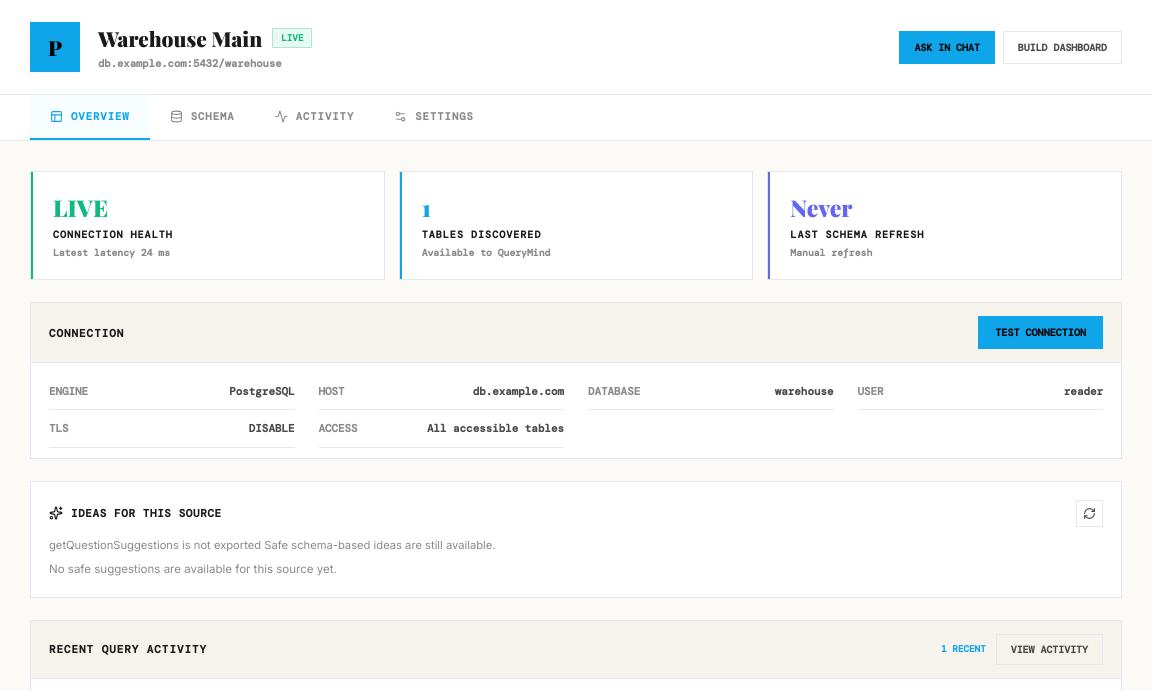
Test: connection detail states › loads scope inventory lazily and keeps activity query-only
What coordinates should you click on to do the following:
click the tab "SETTINGS"
I would click on:
 (434, 118)
Its box is [374,95,494,140].
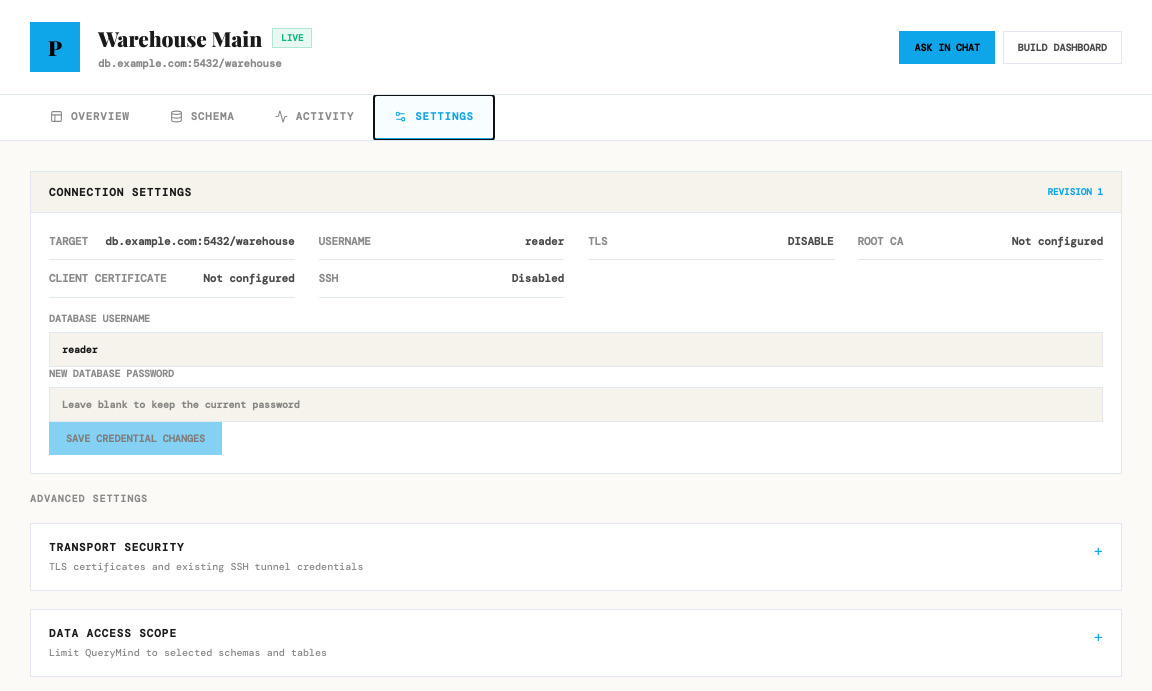
What coordinates should you click on to do the following:
click the button "DATA ACCESS SCOPE"
I would click on:
 (113, 633)
Its box is [31,610,1121,676].
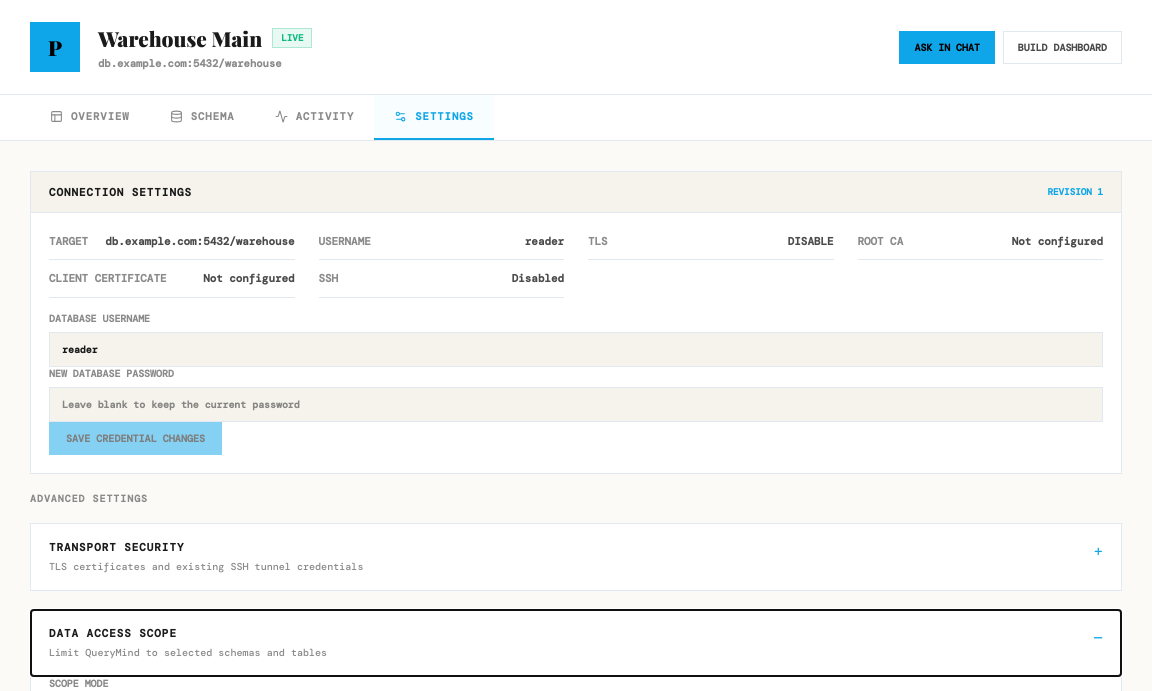
What coordinates should you click on to do the following:
click the tab "ACTIVITY"
I would click on:
 (314, 118)
Its box is [255,95,374,140].
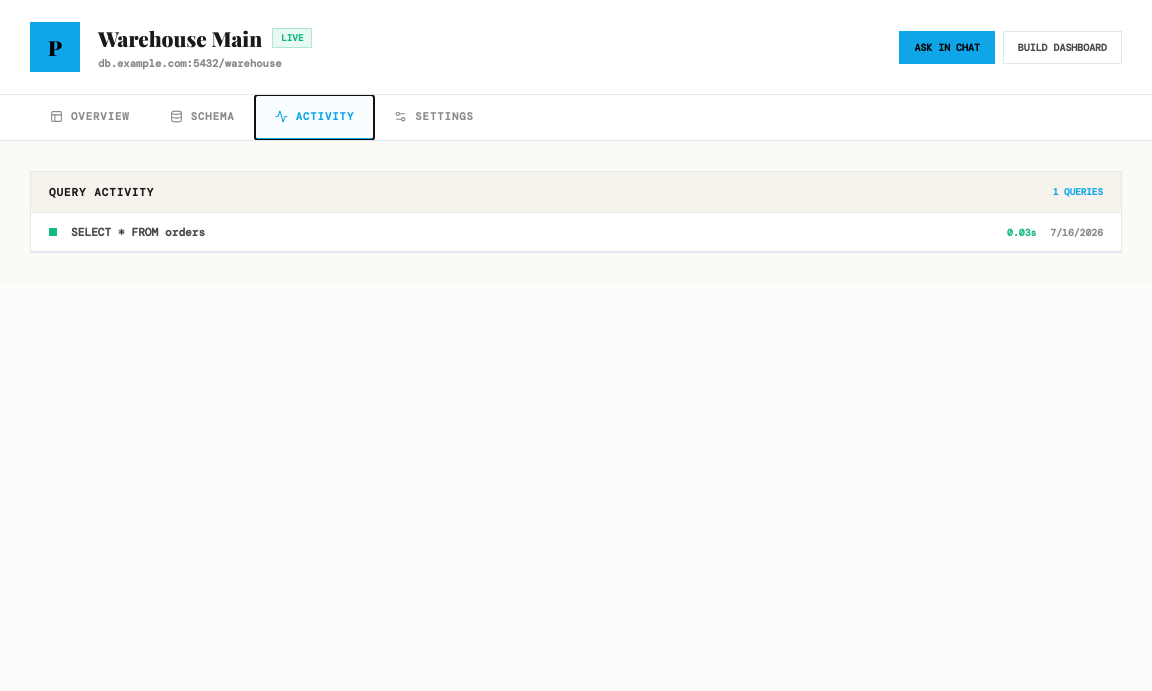
Expected: the text "SELECT * FROM orders" is shown, [71,225,205,239]
